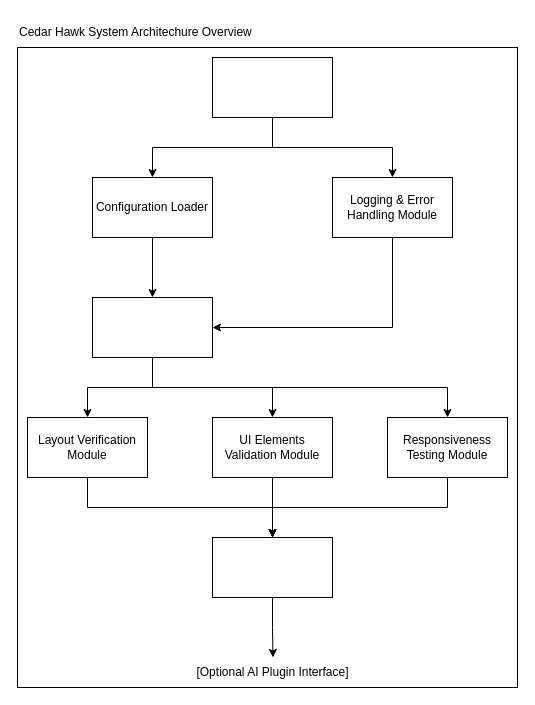
Image size: 535x705. Some labels were removed from this diagram. The centre of each missing label's shape, as x and y in pixels:
"Crawler Module (Fetch & Parse HTML Pages)" belongs at pixel 152 327.
"Main Entry Point" belongs at pixel 272 87.
"Results Generator (JSON Output)" belongs at pixel 272 567.
